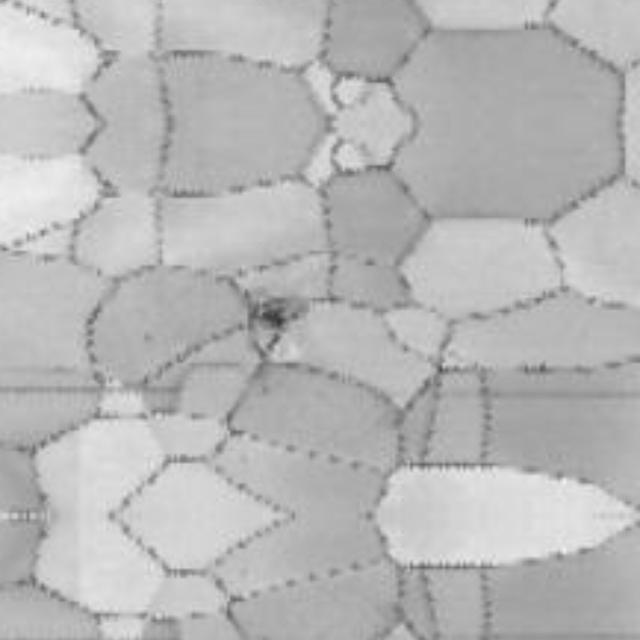good_void: (234, 288, 309, 342)
